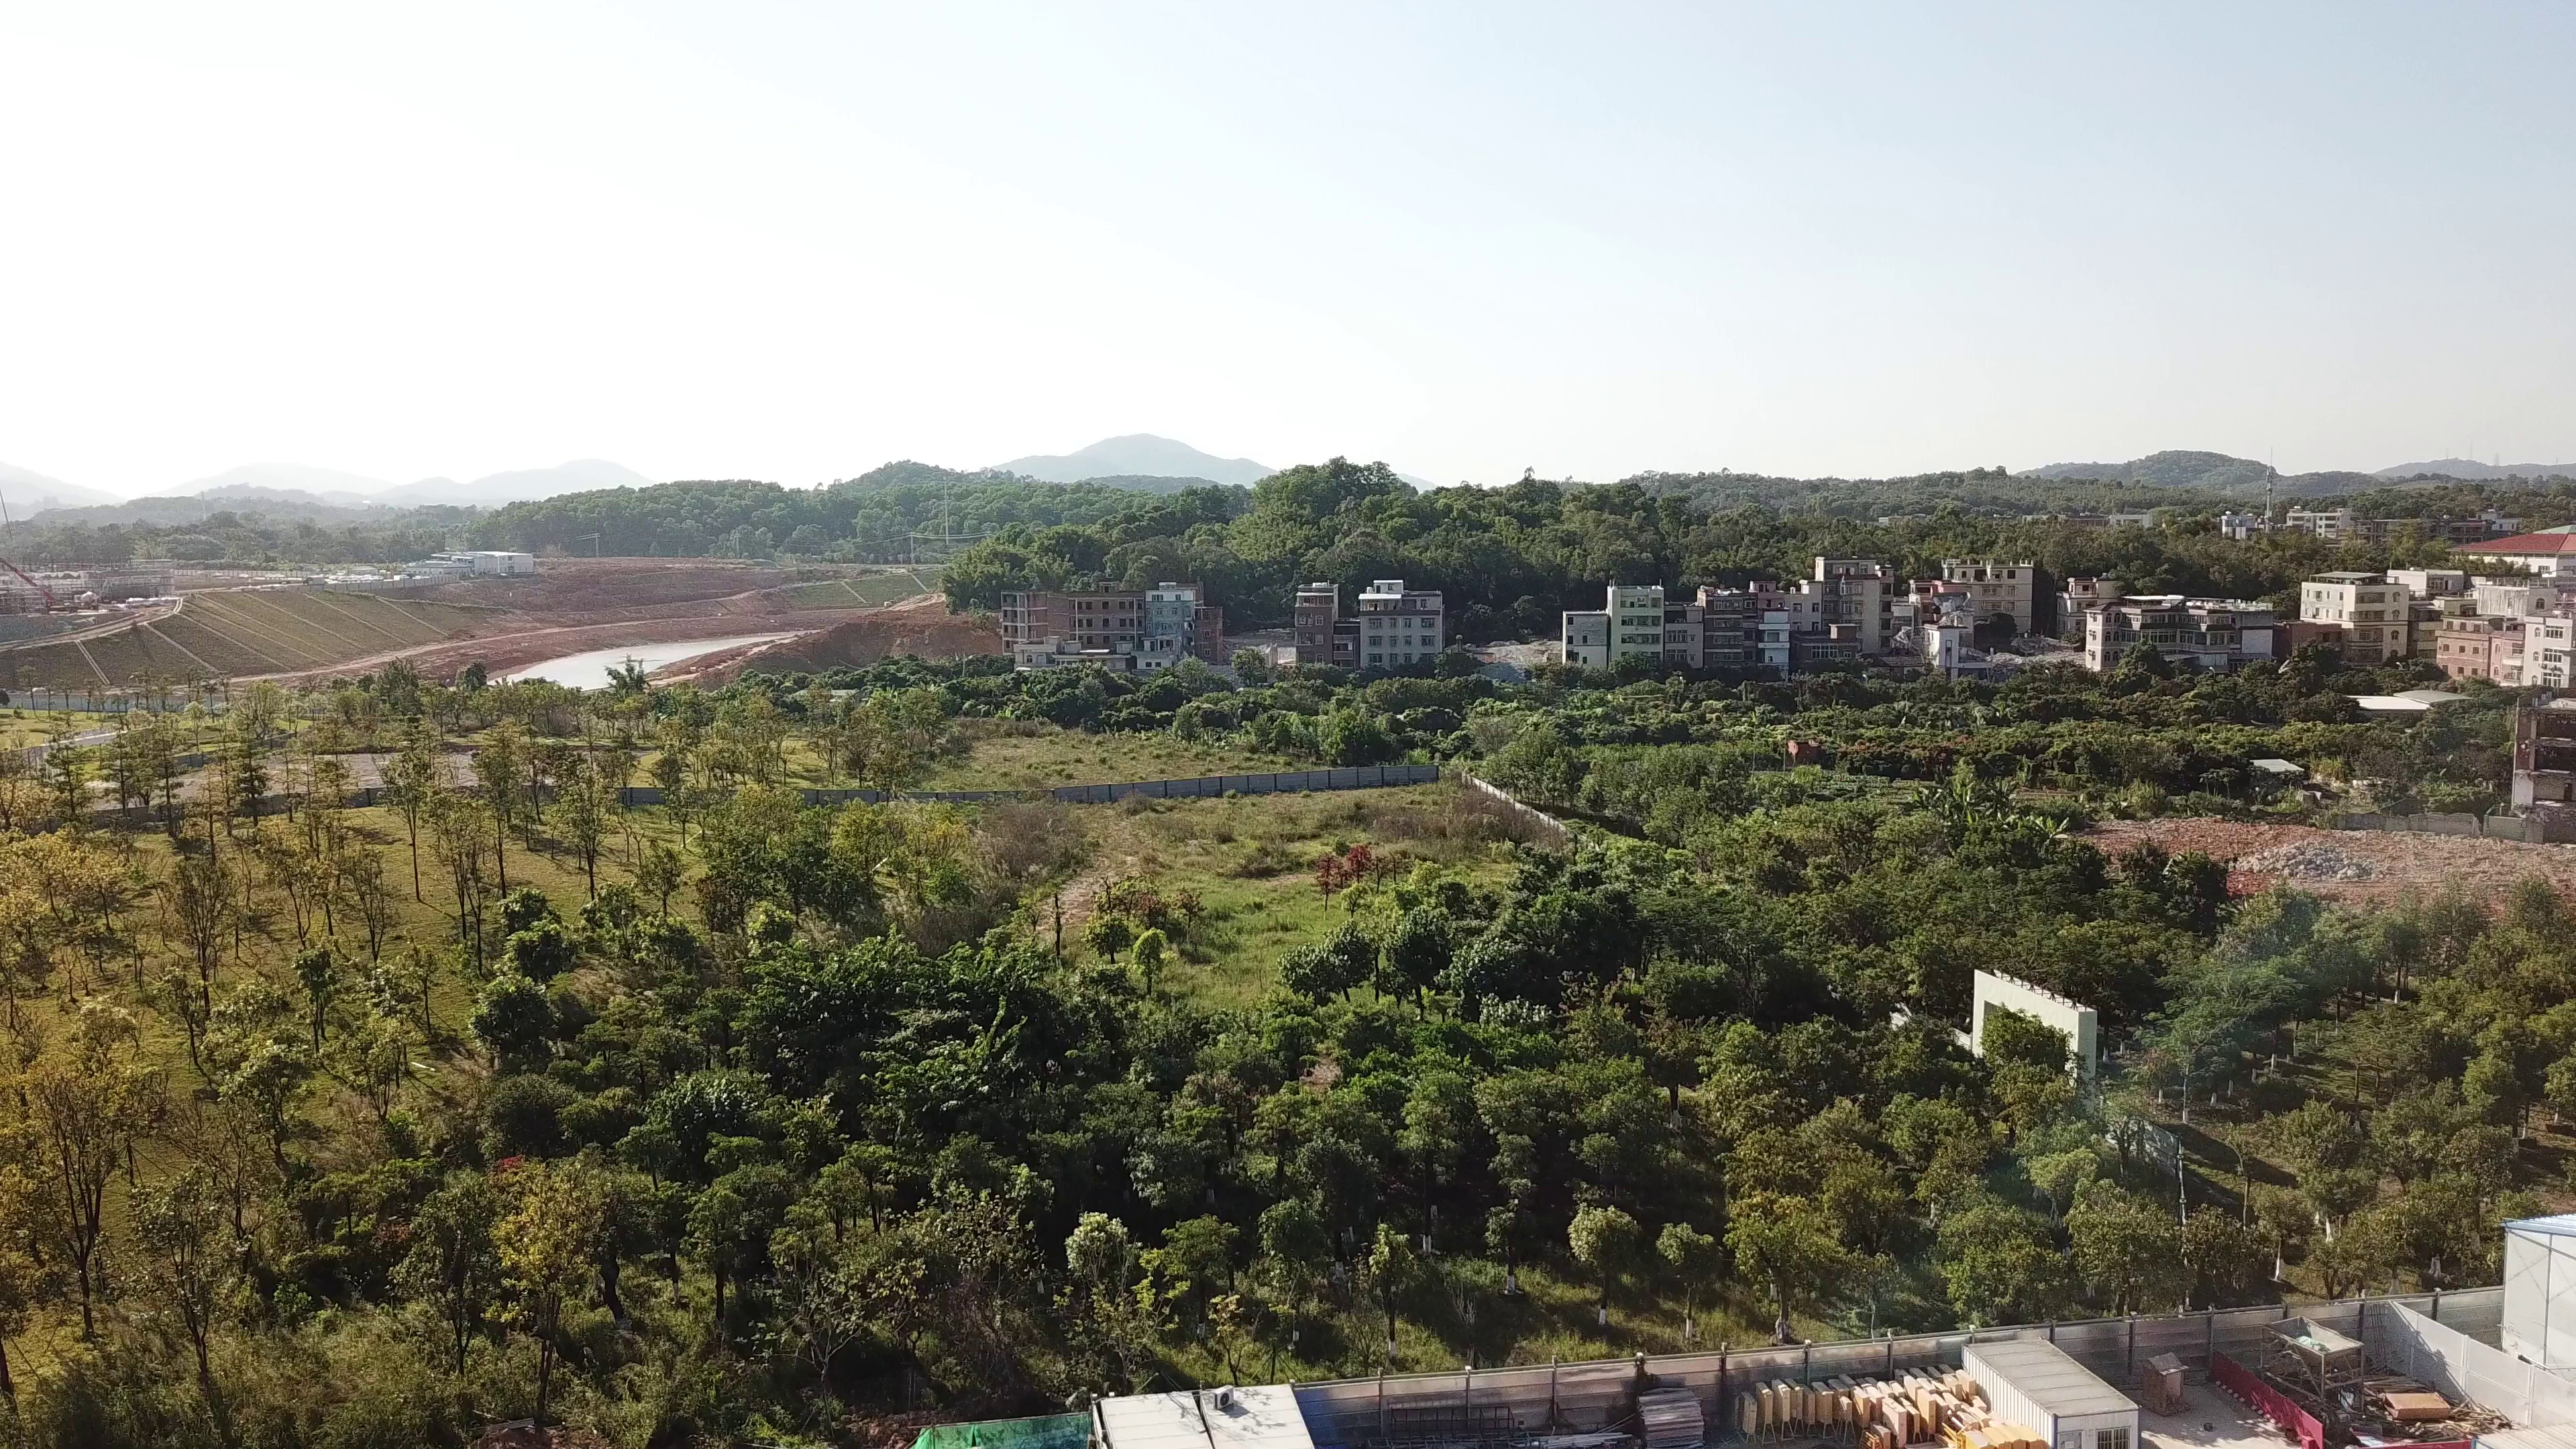fence: (1387, 1311, 2305, 1407)
